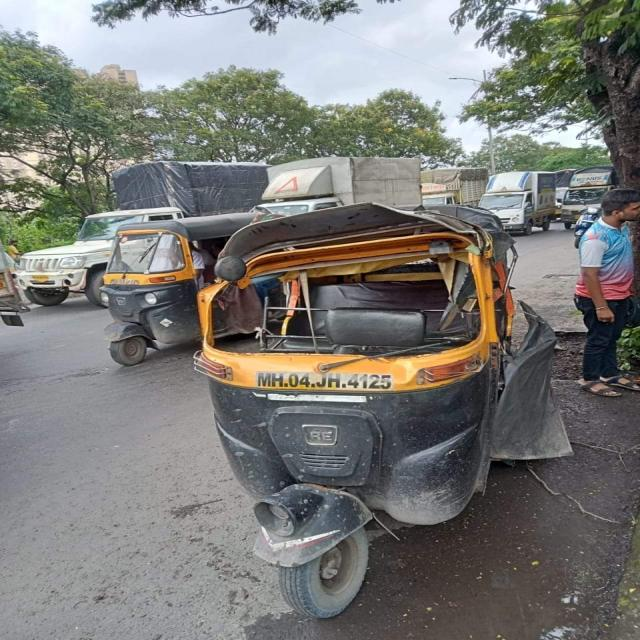accident: (193, 204, 572, 618)
autorickshaw: (102, 212, 253, 365)
motorcycle: (573, 208, 600, 248)
truck: (17, 161, 267, 305), (262, 156, 422, 213), (420, 168, 513, 261), (478, 171, 557, 235), (560, 165, 618, 228)
